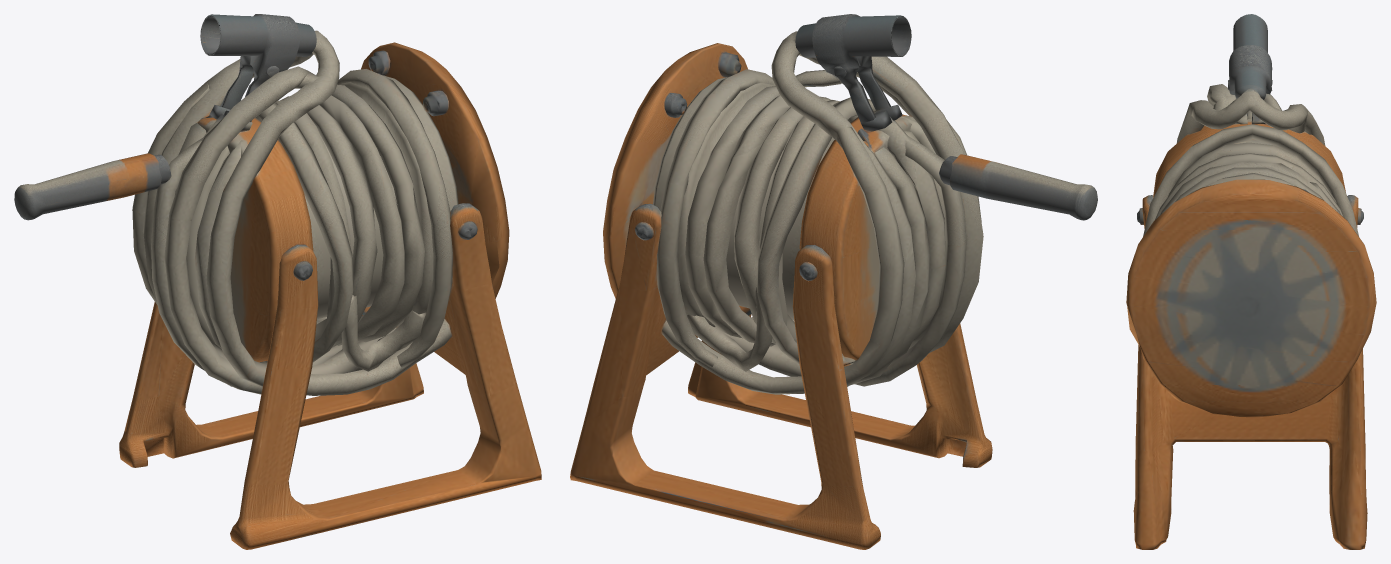
Rendered from hose_reel.glb.
The picture shows the model from 3 angles, left to right: view 1: azimuth 30°, elevation 25°; view 2: azimuth 150°, elevation 25°; view 3: azimuth 270°, elevation 25°; orthographic projection. The views are drawn at different scales.
Parts seen in each view (by area): view 1: hose_reel; view 2: hose_reel; view 3: hose_reel.
Part boxes in pixels (x1,y1,x2,y2): hose_reel: (14, 14, 541, 549); hose_reel: (570, 14, 1097, 549); hose_reel: (1126, 14, 1376, 549).
Bounding box in the file's own units: 0.652 × 0.65 × 0.349.
1 material, 1 textured.
